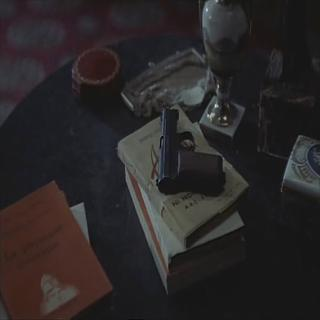gun: (157, 102, 226, 199)
